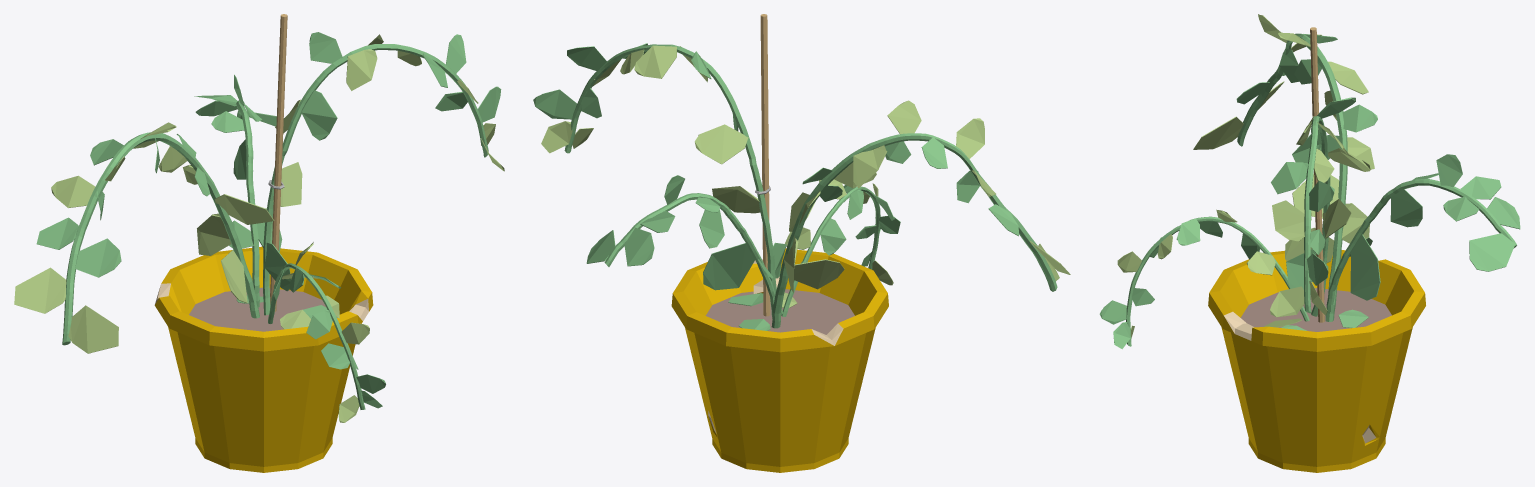
Rendered from vinePotPlantNeedsReducingDONOTUSE.fbx.
3 views of the same model, side by side, from view 1: azimuth 30°, elevation 25°; view 2: azimuth 150°, elevation 25°; view 3: azimuth 270°, elevation 25° (orthographic).
Parts seen in each view (by area): view 1: polySurface797; view 2: polySurface797; view 3: polySurface797.
Part boxes in pixels (left/top/right/bottom): polySurface797: left=14, top=14, right=504, bottom=472; polySurface797: left=533, top=14, right=1070, bottom=472; polySurface797: left=1099, top=14, right=1520, bottom=472.
Size of the model in its own units: 62.43 by 49.4 by 44.42.
